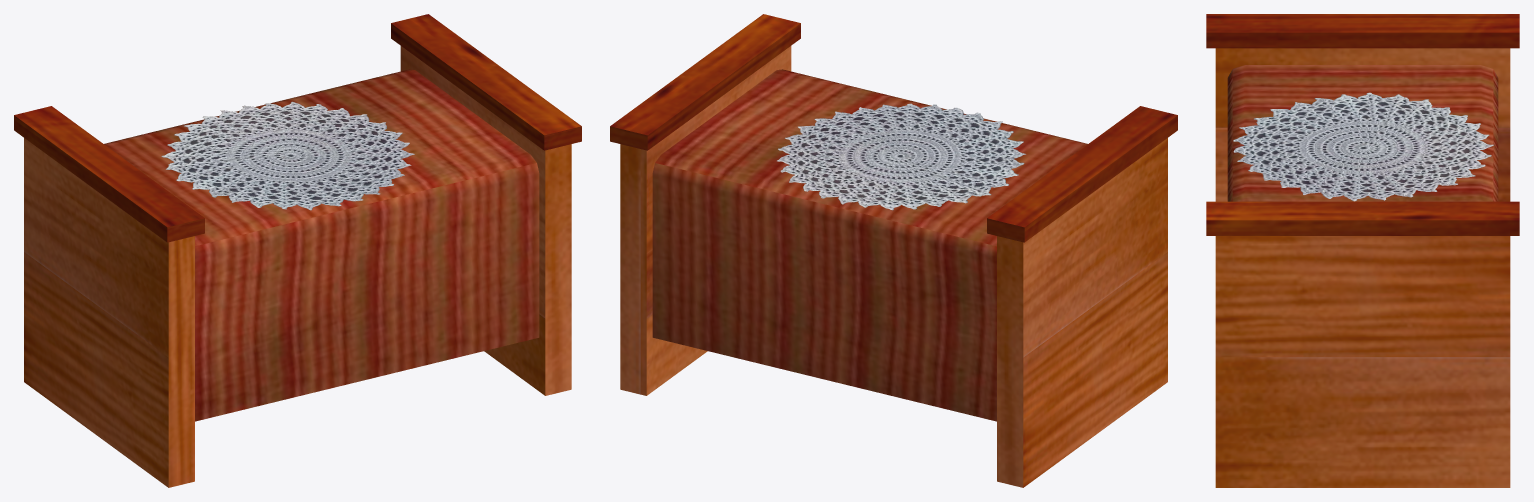
File: Bed_Short.fbx
3 views of the same model, side by side, from view 1: azimuth 30°, elevation 25°; view 2: azimuth 150°, elevation 25°; view 3: azimuth 270°, elevation 25° (orthographic). The views are drawn at different scales.
Visible parts, largest first — view 1: Cube.009, Plane.007; view 2: Cube.009, Plane.007; view 3: Cube.009, Plane.007.
Boxes of the visible parts, box(x1,y1,x2,y2) form: Cube.009: box(14, 14, 581, 487); Plane.007: box(161, 101, 414, 210); Cube.009: box(610, 14, 1177, 487); Plane.007: box(777, 103, 1026, 210); Cube.009: box(1206, 14, 1519, 487); Plane.007: box(1233, 92, 1493, 201).
Bounding box in the file's own units: 221 × 135 × 142.
Materials: 2 (2 with a texture image).
